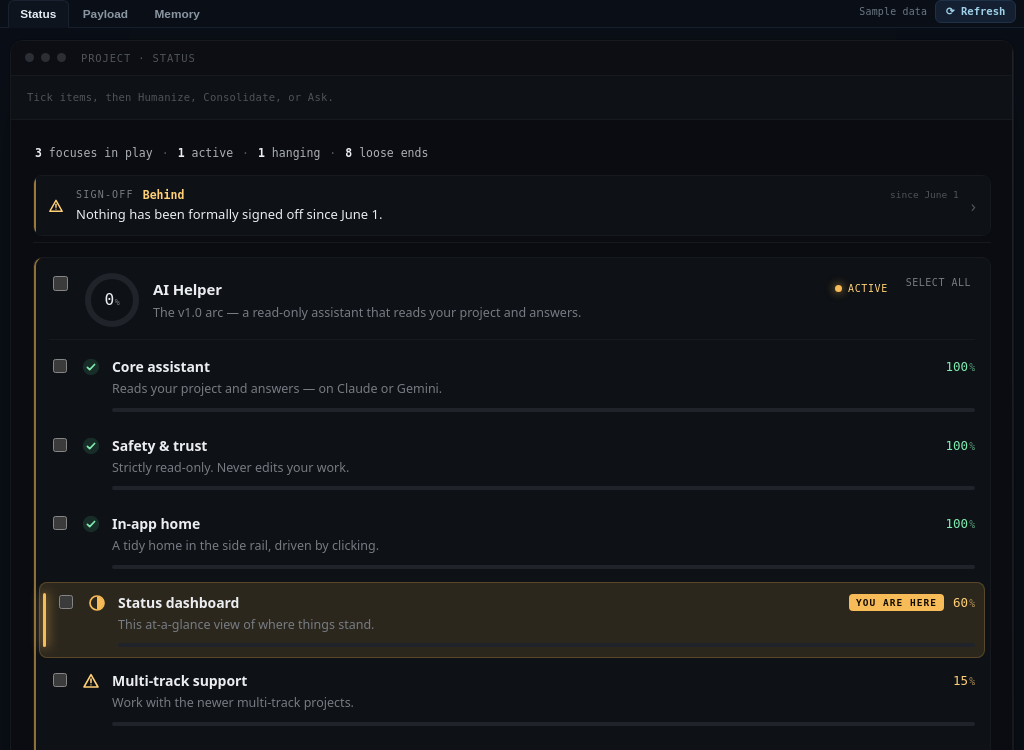
Scenario: Consolidate hides when the selection spans two focuses
Click the 1st checkbox with test id "item-check". click: point(60, 366)
box: 53,359 -> 67,373
(page scrolled)
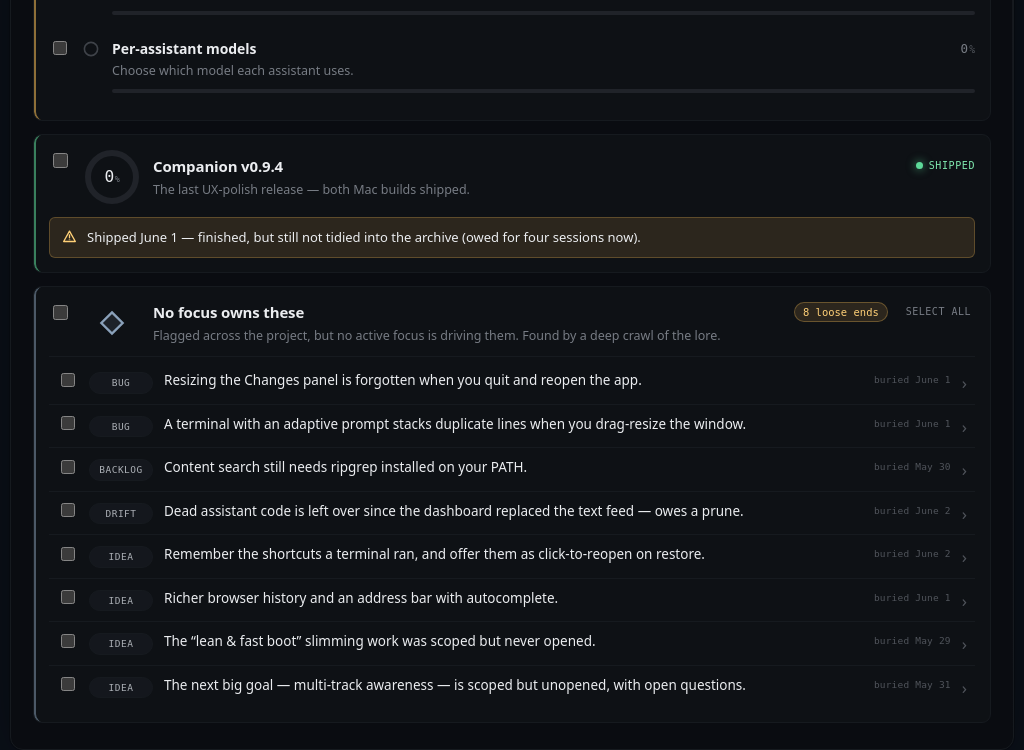
Click the 2nd checkbox with test id "item-check". click: point(68, 380)
box: 61,373 -> 75,387
(page scrolled)
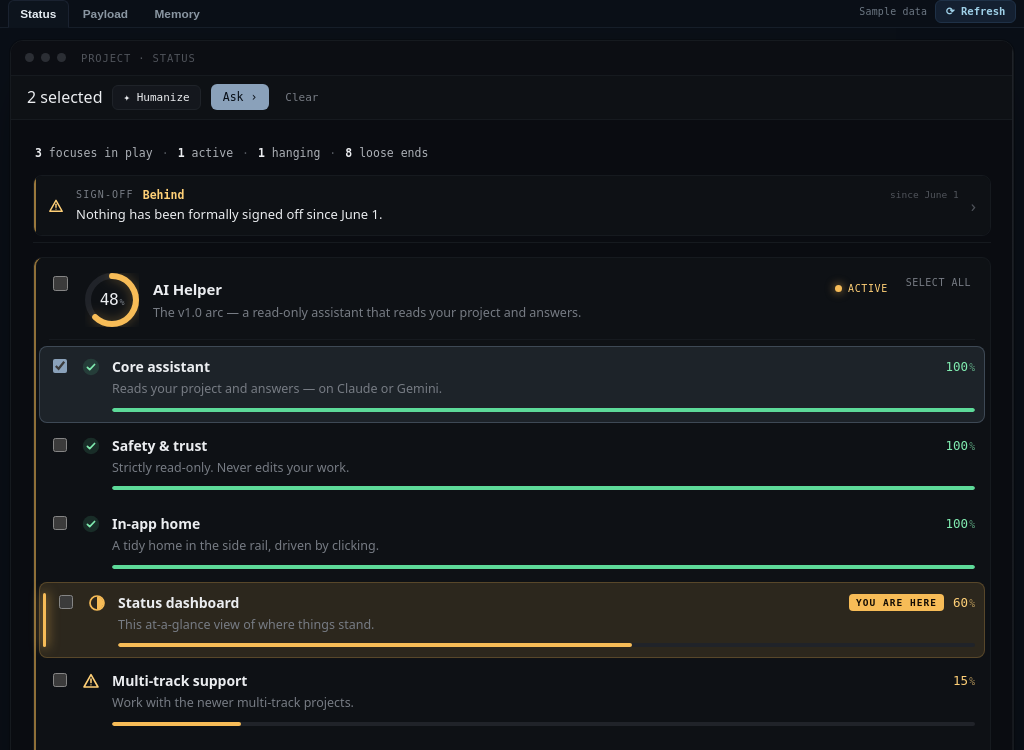
Now the element with test id "ask-toolbar" shows "2 selected", box 27,86 -> 102,108
